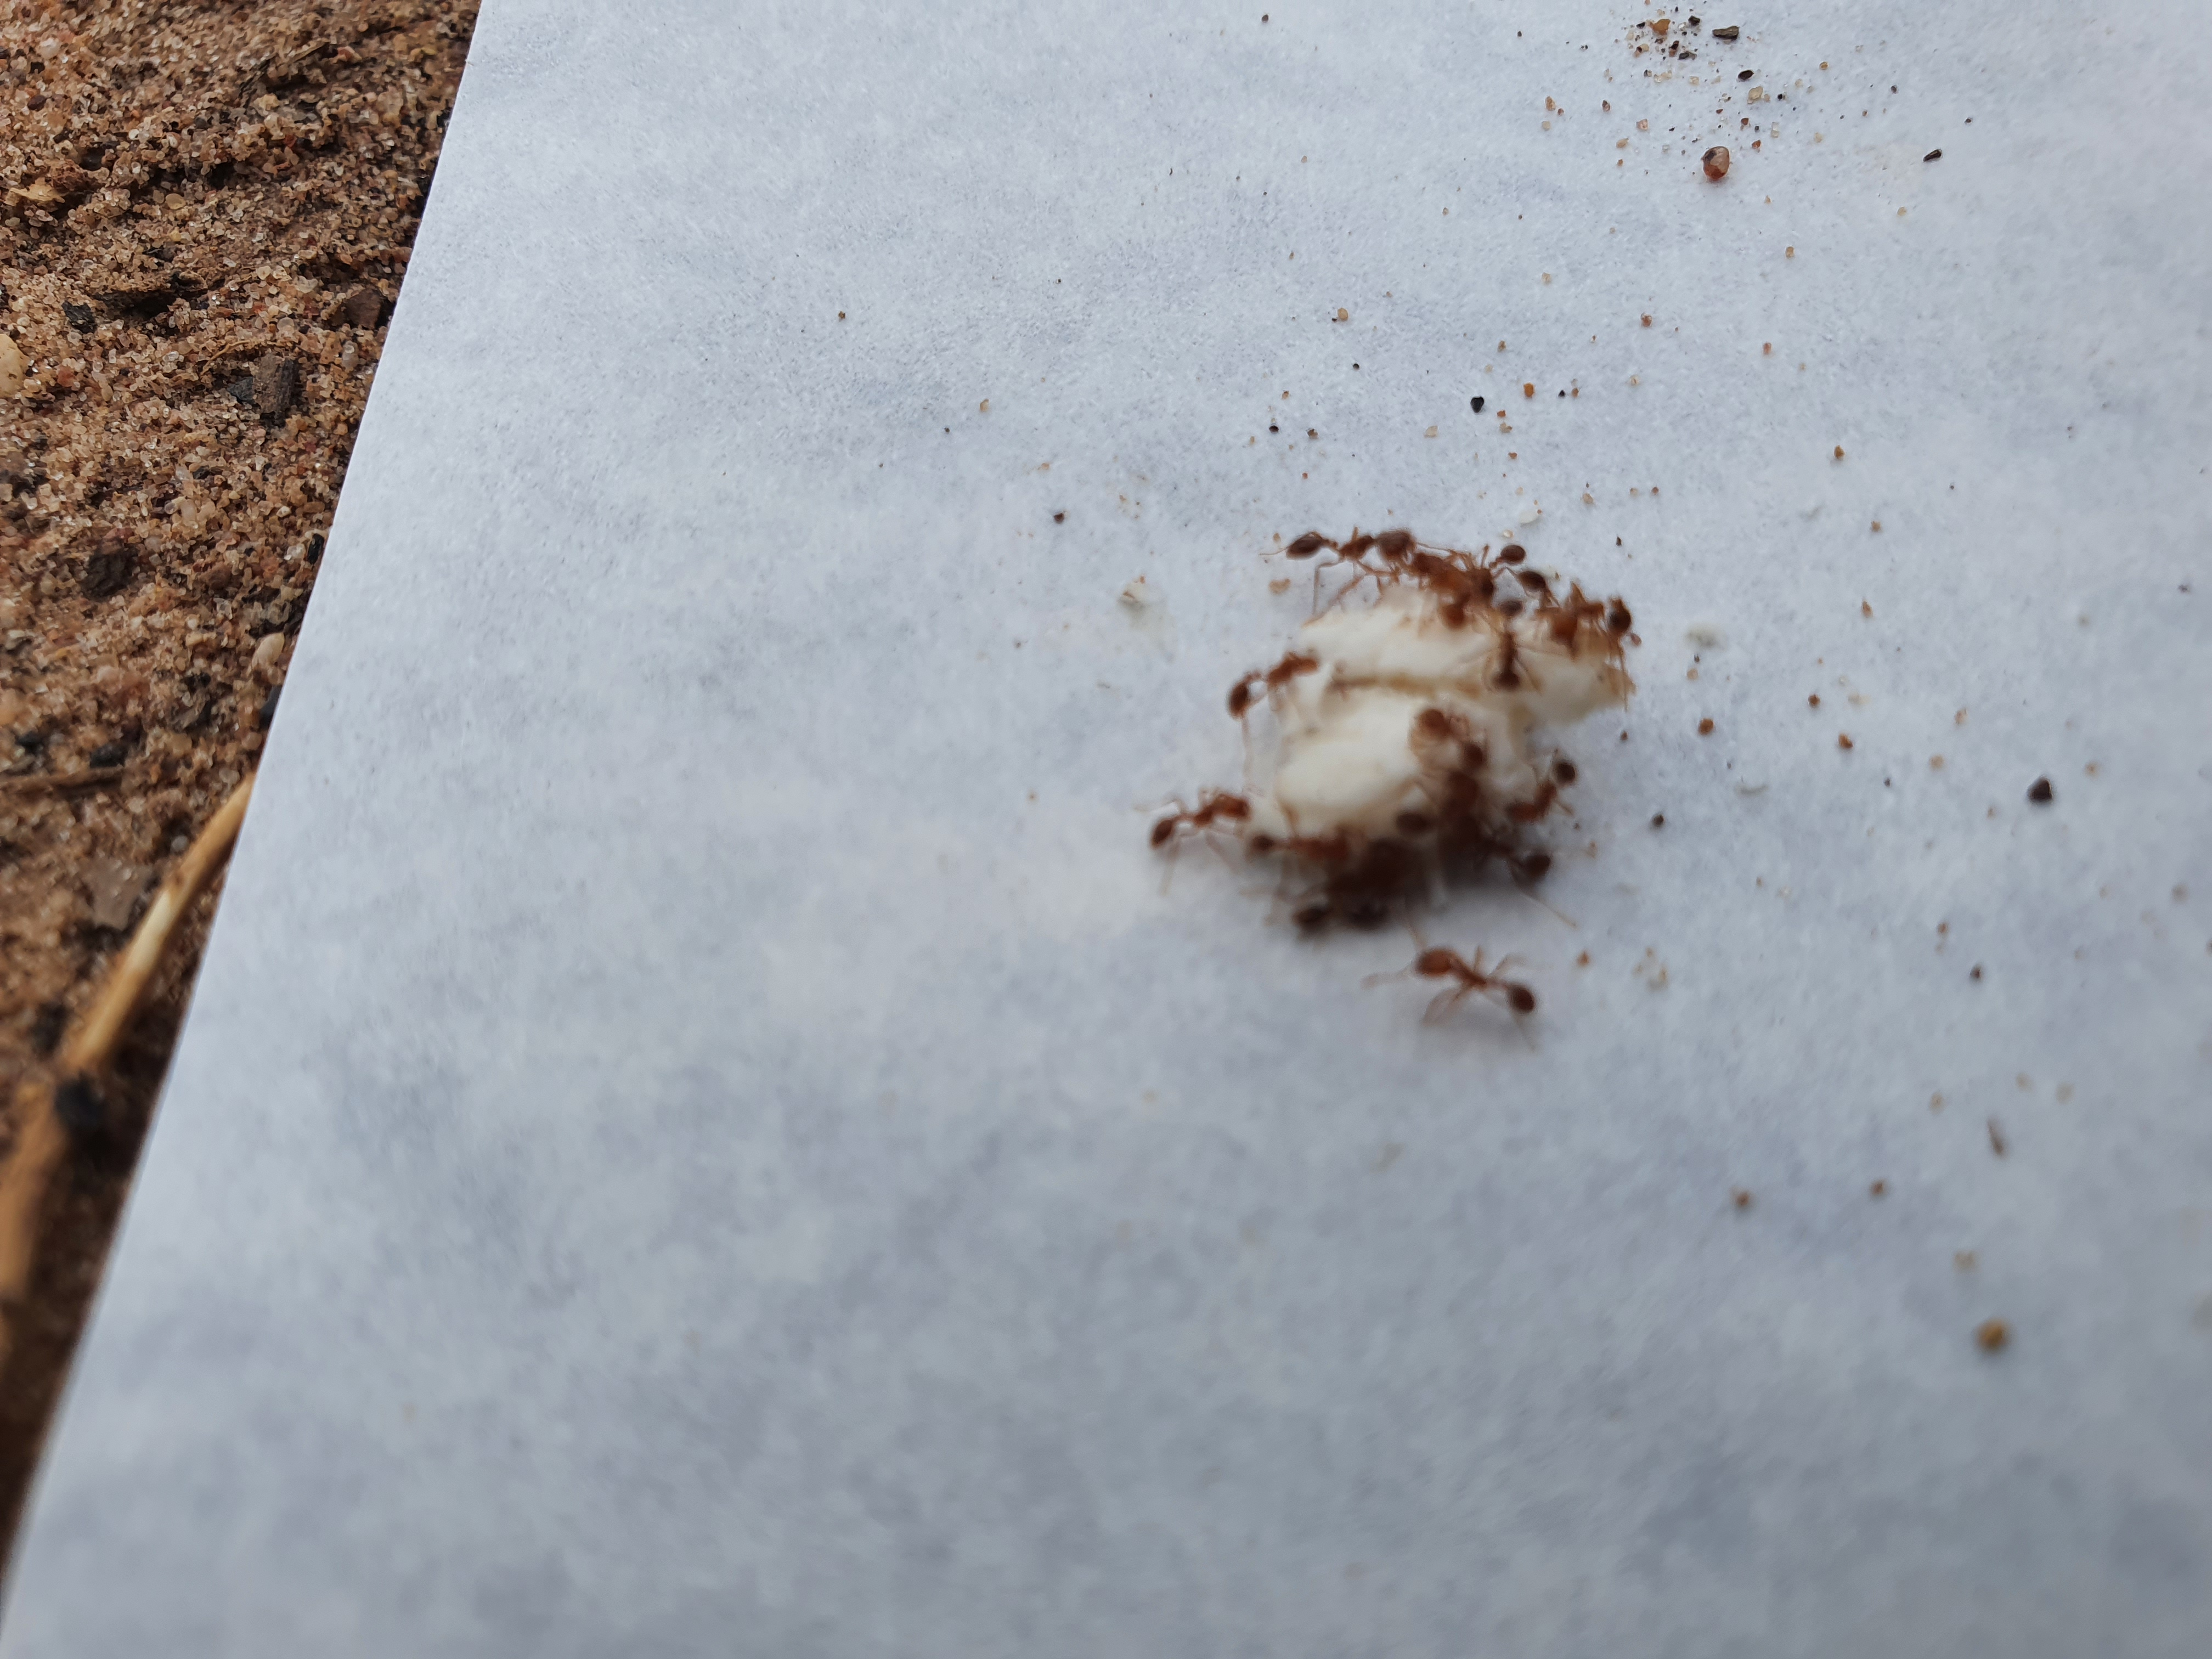Solenopsis_geminata: (1353, 913, 1566, 1072), (1113, 755, 1264, 913)
